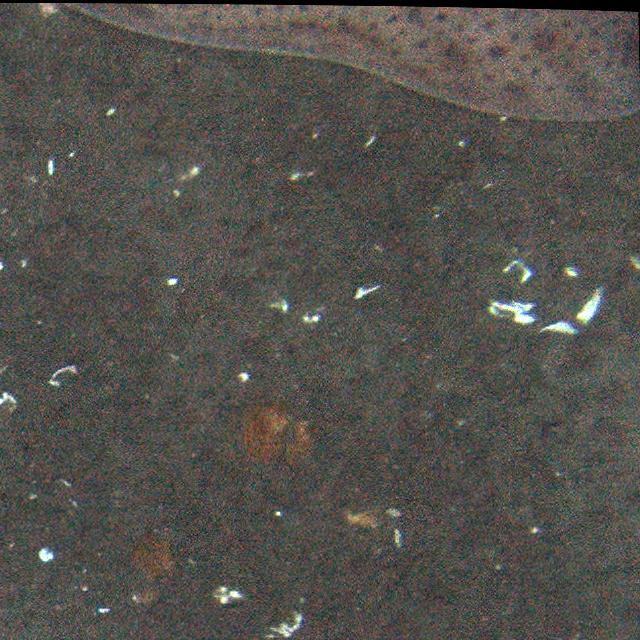skate: (54, 0, 640, 131)
